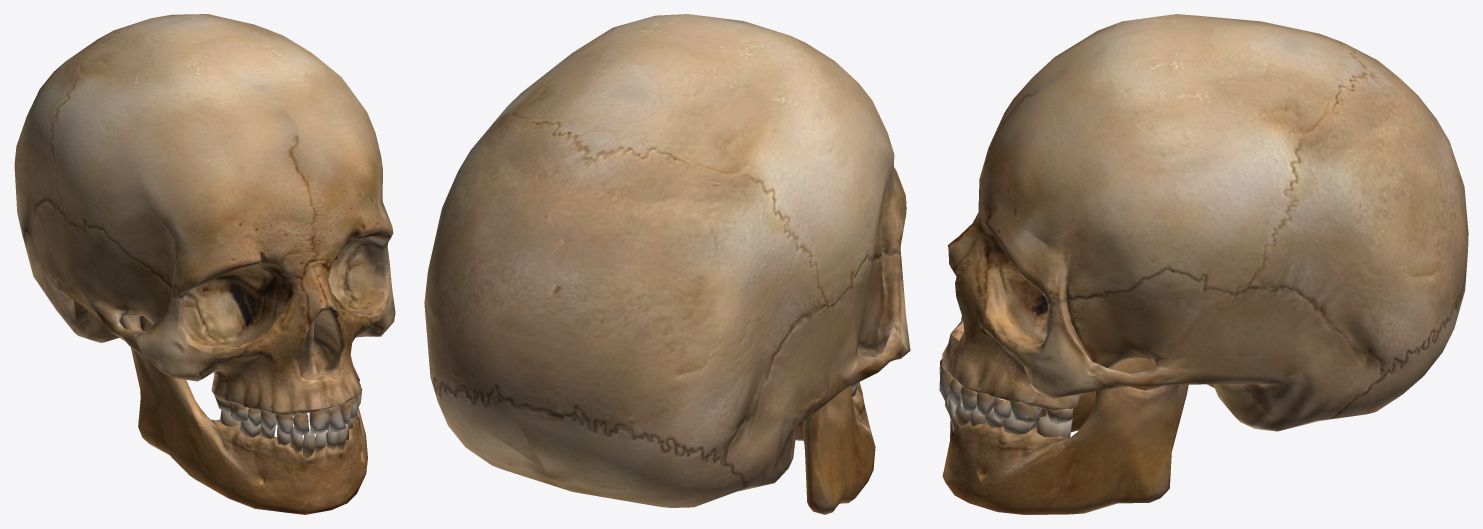
The model's file is skull.glb.
The picture shows the model from 3 angles, left to right: view 1: azimuth 30°, elevation 25°; view 2: azimuth 150°, elevation 25°; view 3: azimuth 270°, elevation 25°; orthographic projection. The views are drawn at different scales.
Parts seen in each view (by area): view 1: skull; view 2: skull; view 3: skull.
Part boxes in pixels (<box>): skull: <box>14,14,395,514</box>; skull: <box>424,14,910,514</box>; skull: <box>939,14,1468,514</box>.
Size of the model in its own units: 1.39 by 1.92 by 2.06.
1 material, 1 textured.
